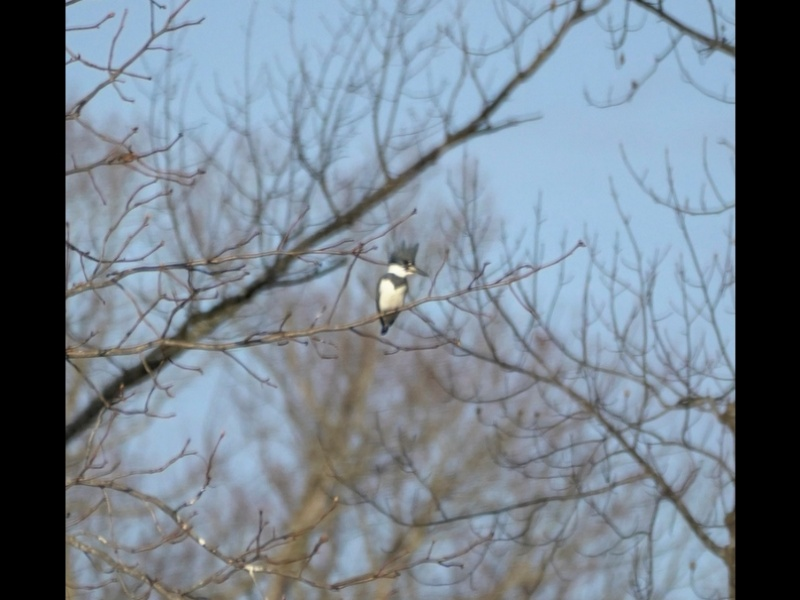kingfisher: (375, 240, 428, 337)
